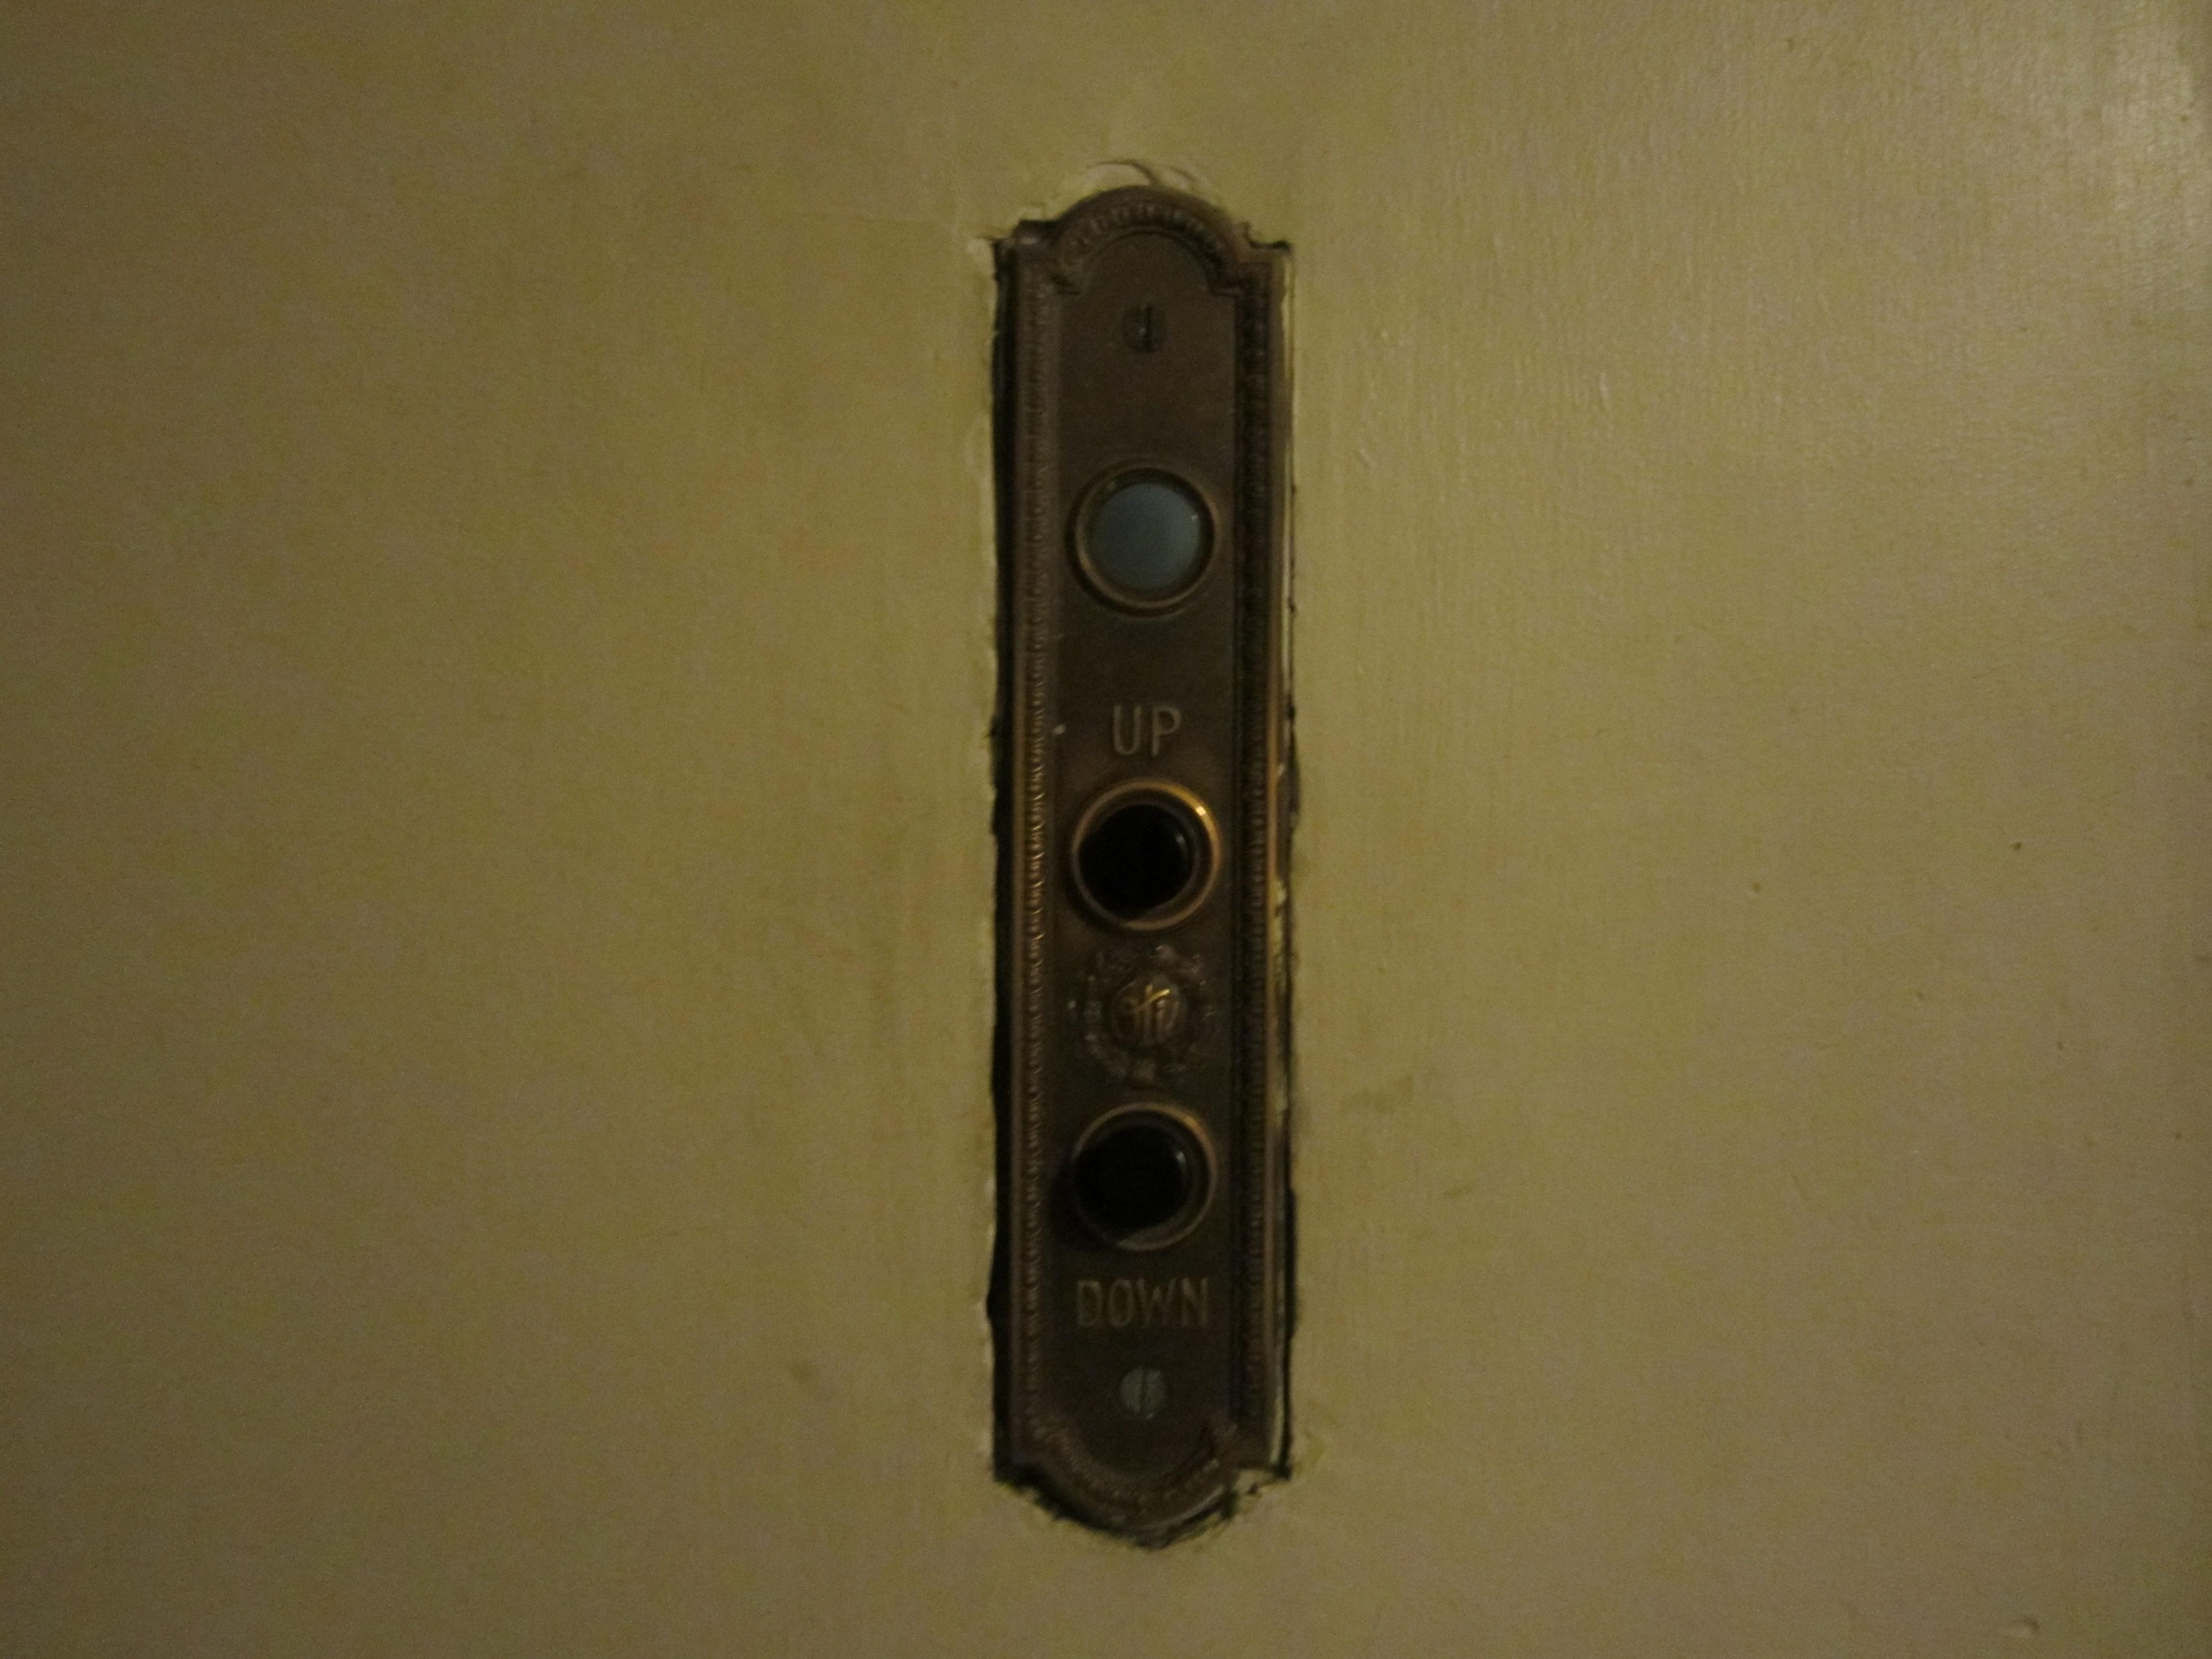empty: (1055, 767, 1228, 941), (1064, 455, 1228, 624), (1057, 1101, 1223, 1260)
